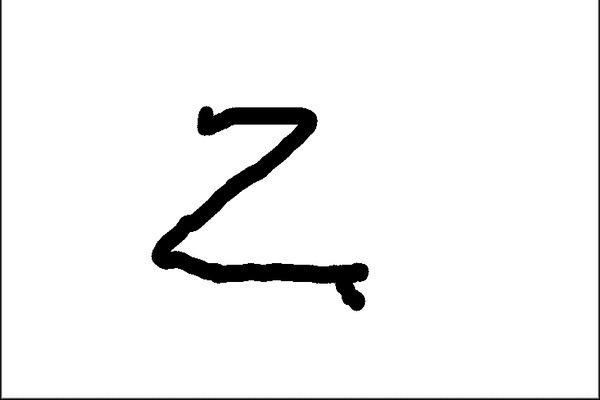Z: (133, 90, 373, 316)
